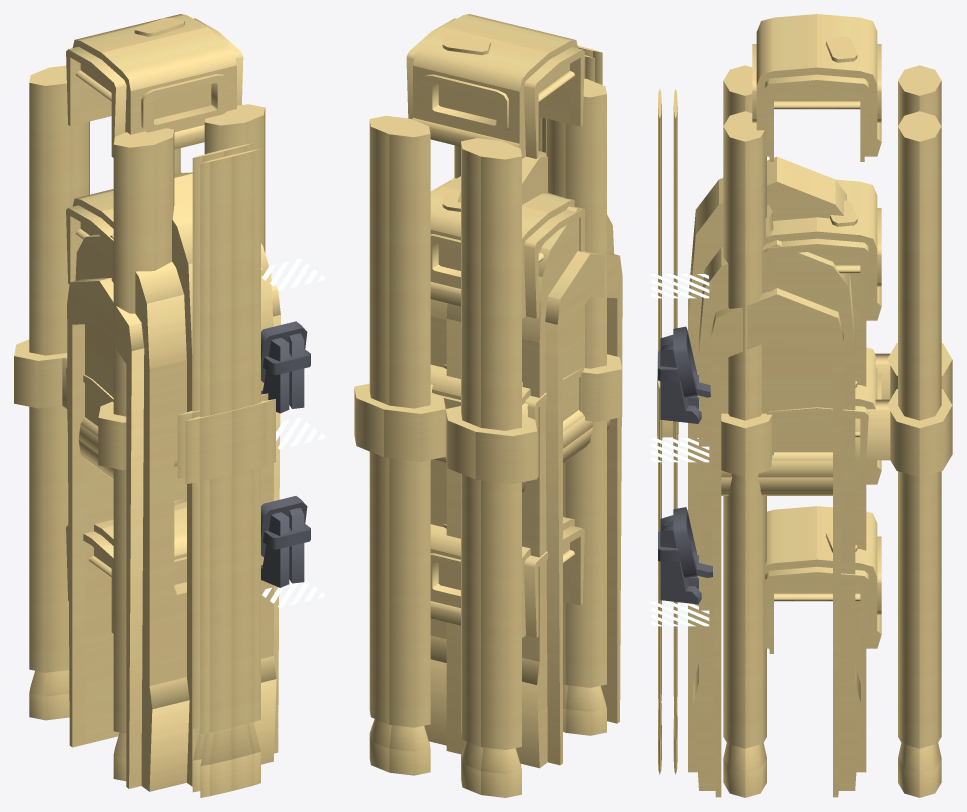
Rendered from mesh_prop-server-rack.fbx.
The picture shows the model from 3 angles, left to right: view 1: azimuth 30°, elevation 25°; view 2: azimuth 150°, elevation 25°; view 3: azimuth 270°, elevation 25°; orthographic projection. The views are drawn at different scales.
Parts seen in each view (by area): view 1: mesh_prop-server-rack; view 2: mesh_prop-server-rack; view 3: mesh_prop-server-rack.
Boxes of the visible parts, bbox=[...] form: mesh_prop-server-rack: bbox=[14, 14, 325, 797]; mesh_prop-server-rack: bbox=[354, 14, 622, 797]; mesh_prop-server-rack: bbox=[651, 14, 952, 797].
Size of the model in its own units: 0.608 by 2.2 by 0.8315.
